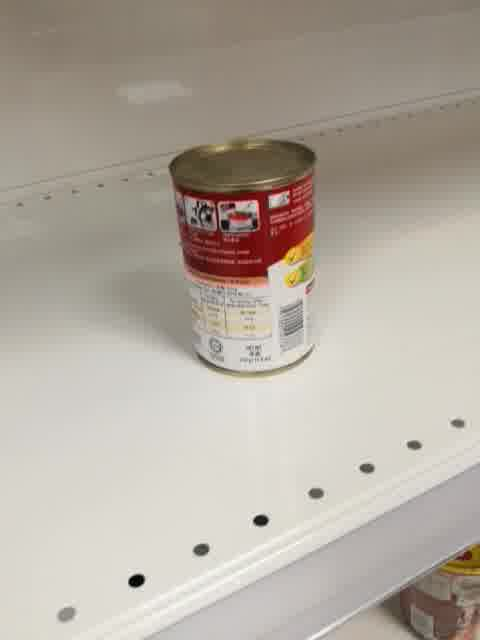tomatosoup: (167, 136, 320, 380)
